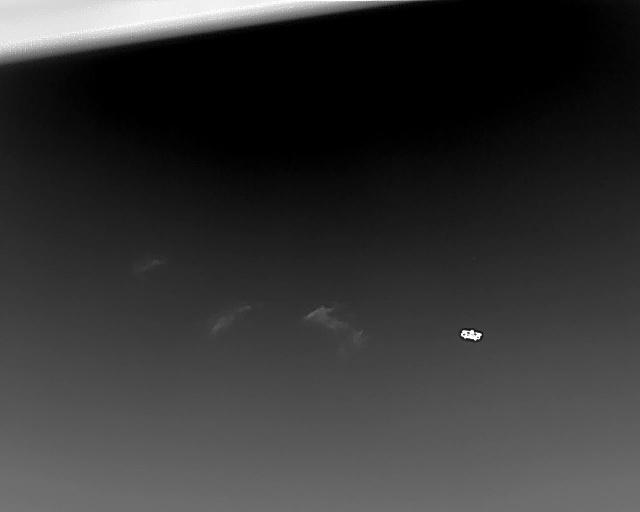fpv-drone: (459, 328, 483, 342)
